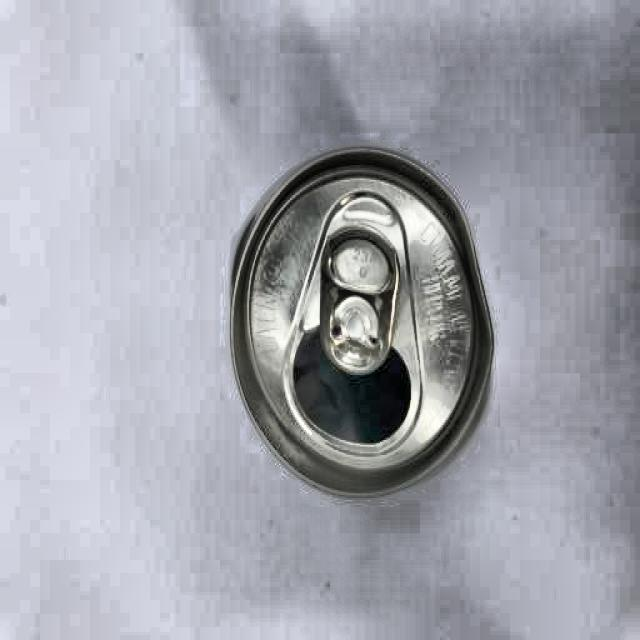metal: (224, 146, 494, 492)
